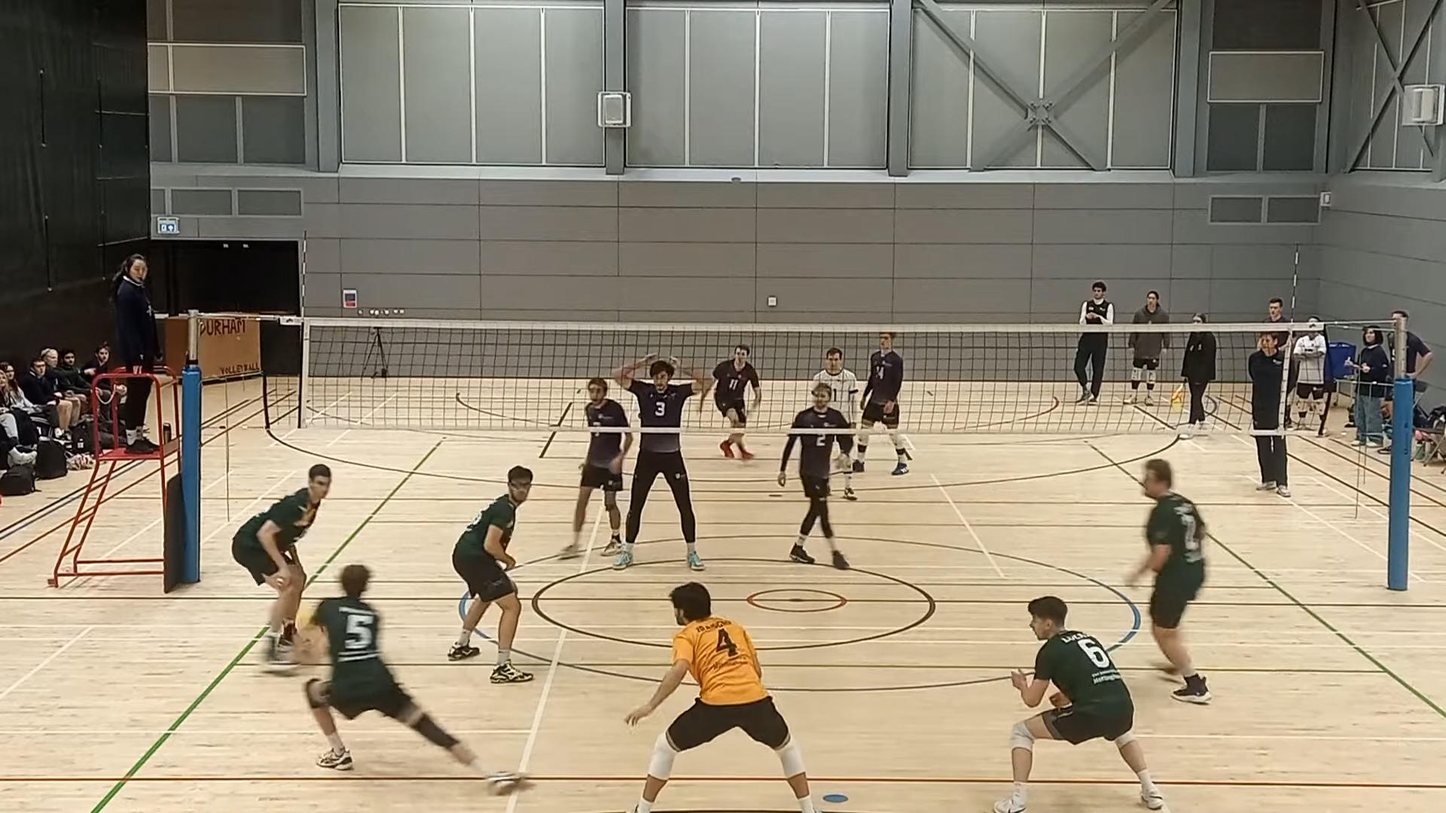ricezione: (295, 562, 526, 795)
